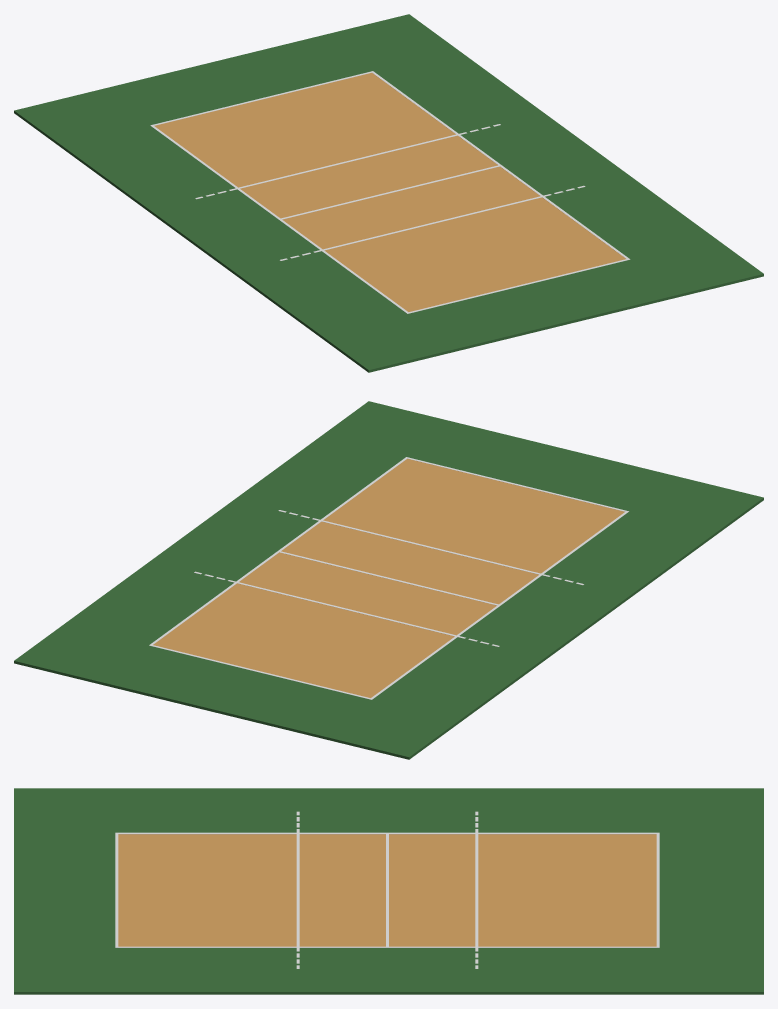
File: Volleyball Court.fbx
3 renders of one model, top to bottom at view 1: azimuth 30°, elevation 25°; view 2: azimuth 150°, elevation 25°; view 3: azimuth 270°, elevation 25°, orthographic. The views are drawn at different scales.
Parts seen in each view (by area): view 1: Volleyball Court; view 2: Volleyball Court; view 3: Volleyball Court.
Part boxes in pixels (bbox=[...]): Volleyball Court: bbox=[14, 14, 763, 372]; Volleyball Court: bbox=[14, 401, 763, 759]; Volleyball Court: bbox=[14, 788, 763, 994].
Bounding box in the file's own units: 6380 × 41.89 × 9920.
